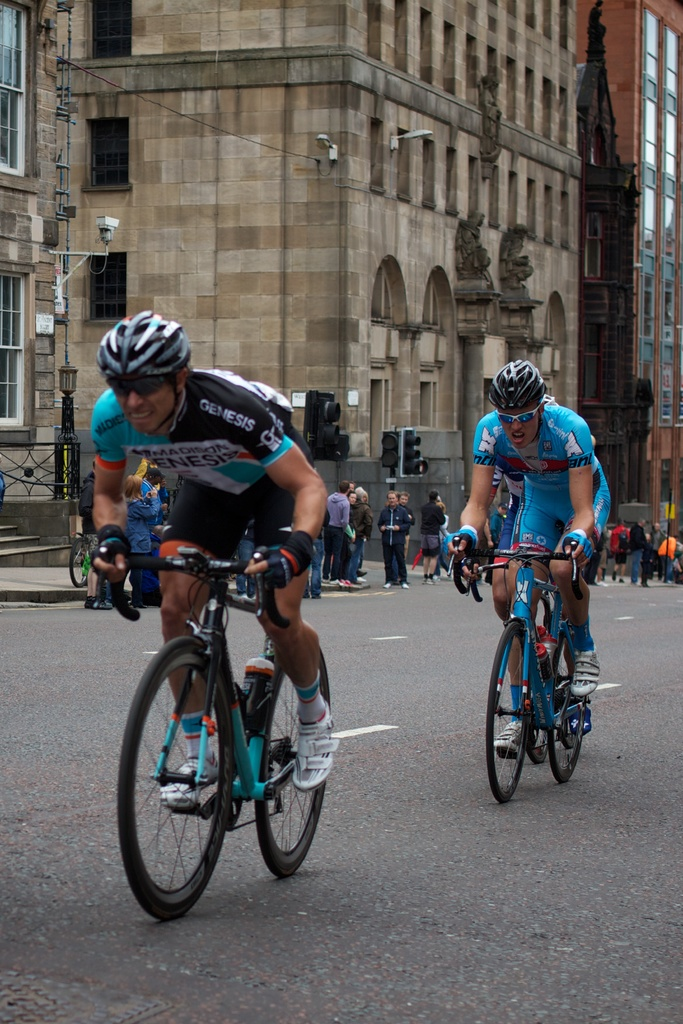Bike: (43, 523, 364, 939)
